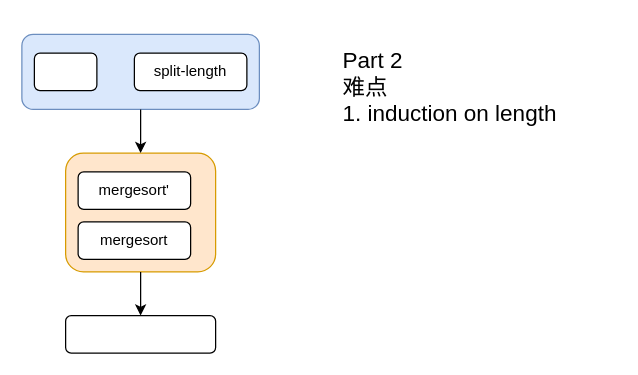
This 638x375 diagram has some shape labels left out. Here are the shapes that lost their labels. From the top down, the box of each, then its label:
(33, 52, 97, 91): split
(64, 314, 216, 353): mergesort is sorted
